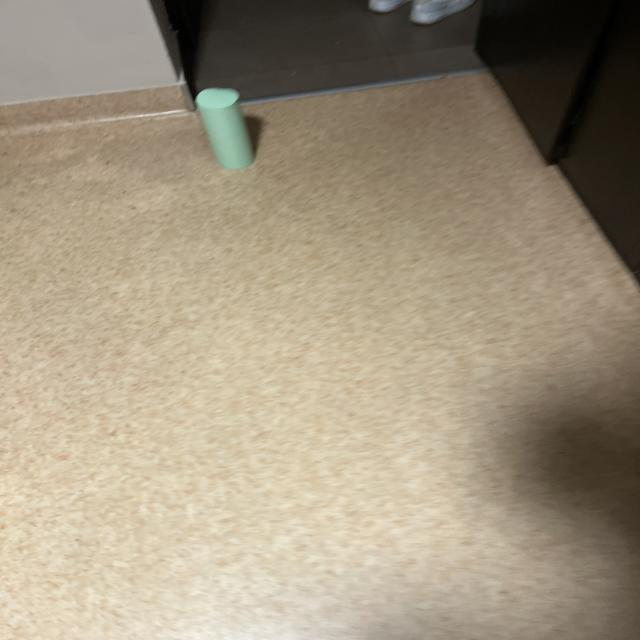meta: (196, 88, 253, 169)
